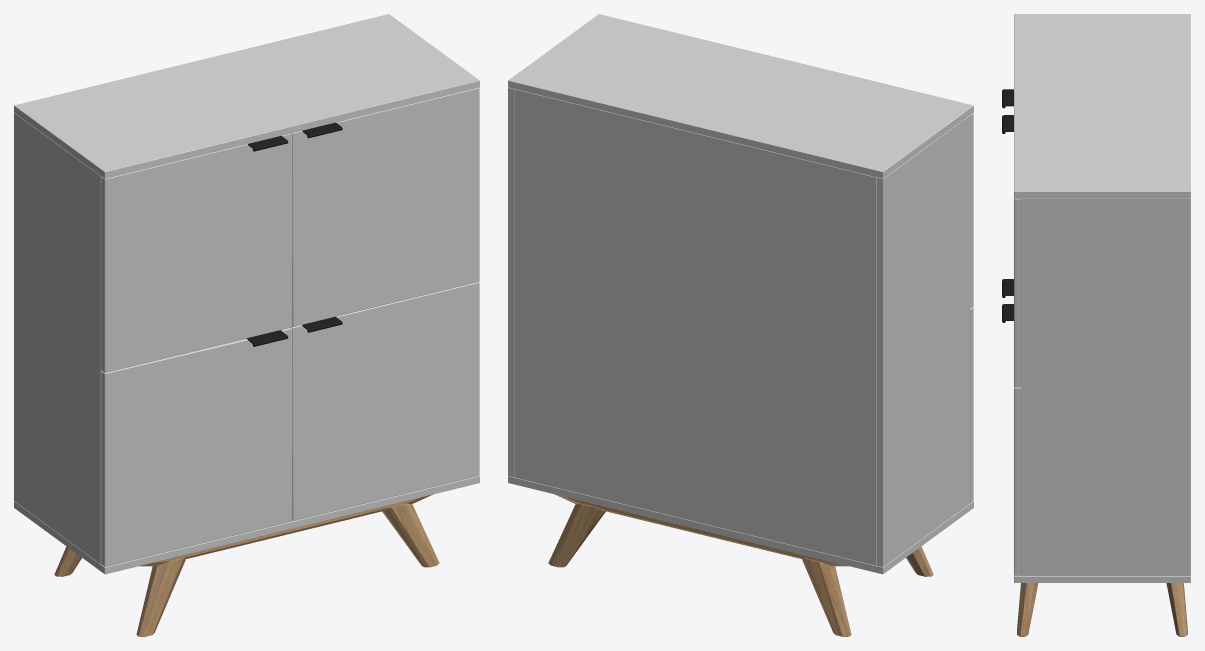
The picture shows the model from 3 angles, left to right: view 1: azimuth 30°, elevation 25°; view 2: azimuth 150°, elevation 25°; view 3: azimuth 270°, elevation 25°; orthographic projection. The views are drawn at different scales.
Parts seen in each view (by area): view 1: GREY, WOOD, Material__27_1; view 2: GREY, WOOD; view 3: GREY, WOOD, Material__27_1.
Part boxes in pixels (x1=…): GREY: x1=14, y1=14, x2=479, y2=574; WOOD: x1=54, y1=494, x2=439, y2=636; Material__27_1: x1=246, y1=122, x2=342, y2=346; GREY: x1=508, y1=14, x2=973, y2=574; WOOD: x1=548, y1=494, x2=933, y2=636; GREY: x1=1014, y1=14, x2=1190, y2=582; WOOD: x1=1017, y1=583, x2=1187, y2=636; Material__27_1: x1=1002, y1=89, x2=1013, y2=322.
Size of what is drawn, in the model's own units: 100 by 121 by 44.81.
Materials: 3 (1 with a texture image).
